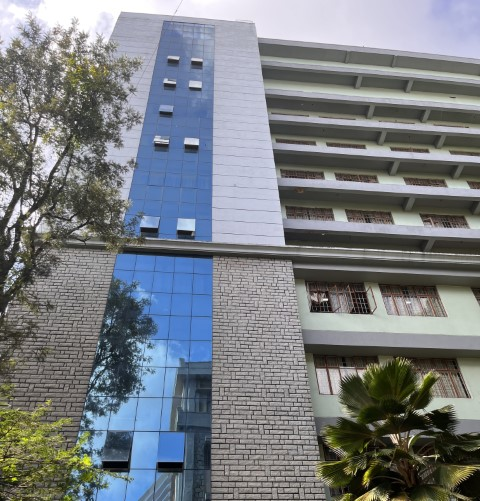Central Block: (106, 7, 480, 470)
